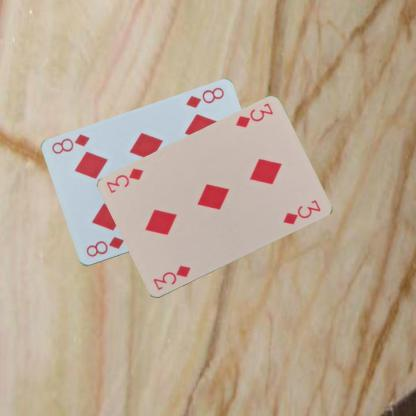3d: (150, 263, 192, 292), (233, 101, 274, 130)
8d: (82, 234, 126, 259), (183, 85, 225, 110)
